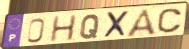0: (27, 18, 47, 45)
A: (125, 8, 158, 39)
C: (156, 7, 184, 34)
H: (48, 14, 78, 44)
Q: (79, 13, 102, 40)
X: (102, 10, 130, 40)
